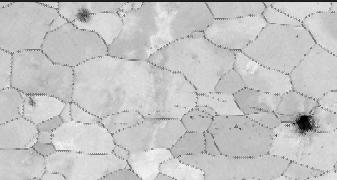good_void: (292, 112, 319, 139), (24, 94, 39, 110), (74, 8, 91, 22), (234, 121, 243, 132), (273, 131, 282, 140), (188, 114, 194, 121), (294, 32, 299, 39)
